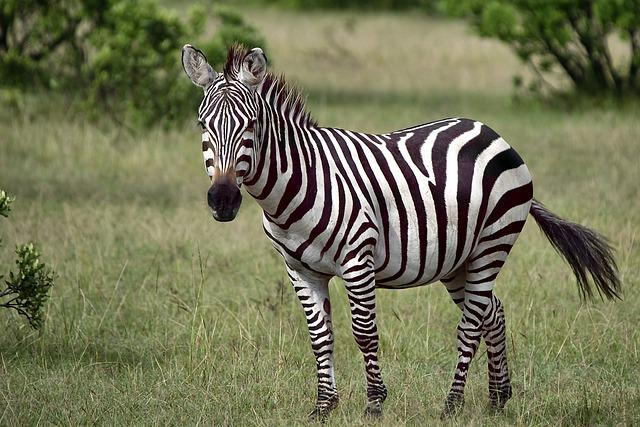Non_Gorille: (11, 3, 640, 427)
